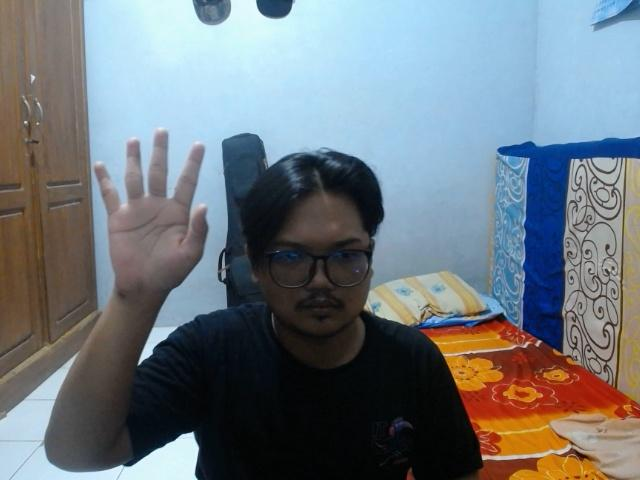Release: (90, 120, 214, 302)
